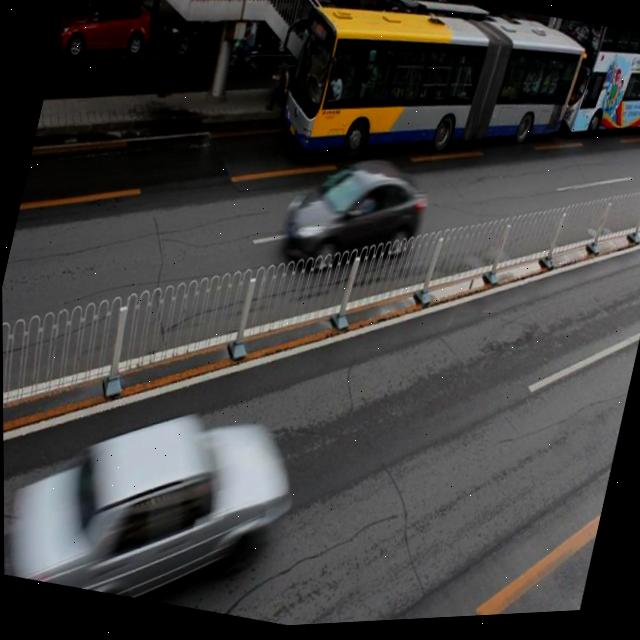car: (16, 379, 293, 631), (275, 144, 431, 293), (53, 0, 158, 72), (156, 0, 264, 68), (348, 5, 434, 83), (262, 0, 347, 72)
van: (278, 0, 588, 204), (536, 20, 640, 159)
